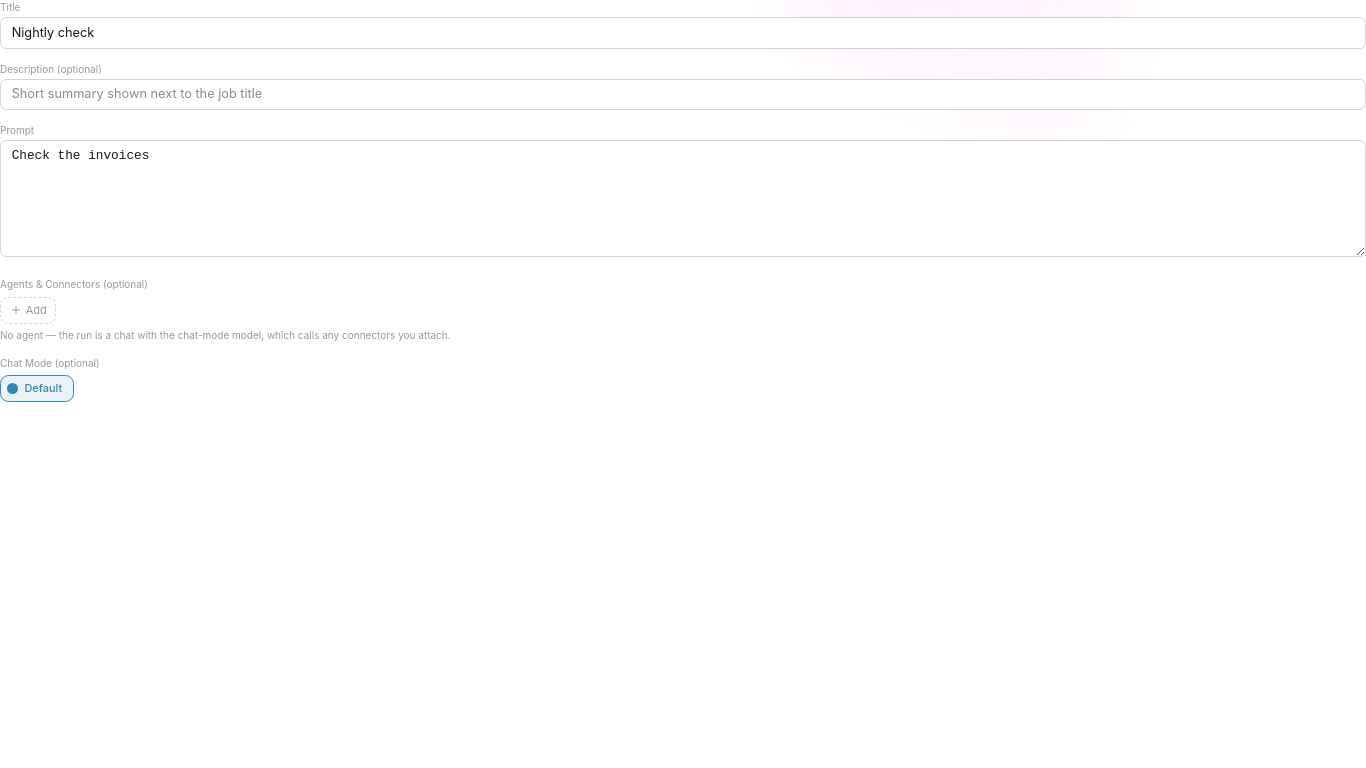
Jobs agent picker › files a folder agent under "Local", beside hand-added local agents
Click the button "Add".
click(28, 310)  # box [0,296,56,324]
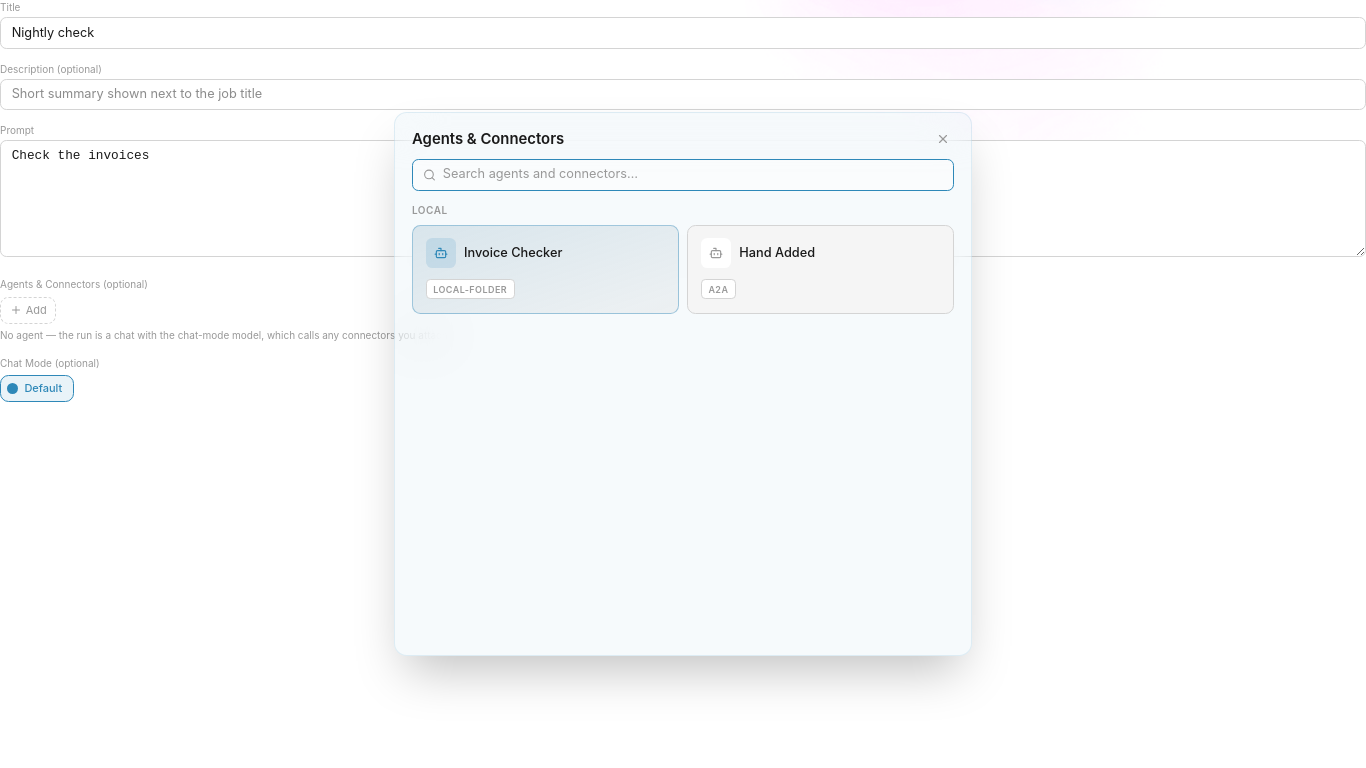
Expected: the text "Local" is shown, [412,204,448,216]
Expected: the text "Invoice Checker" is shown, [464,245,579,262]
Expected: the text "Hand Added" is shown, [739,245,815,260]
